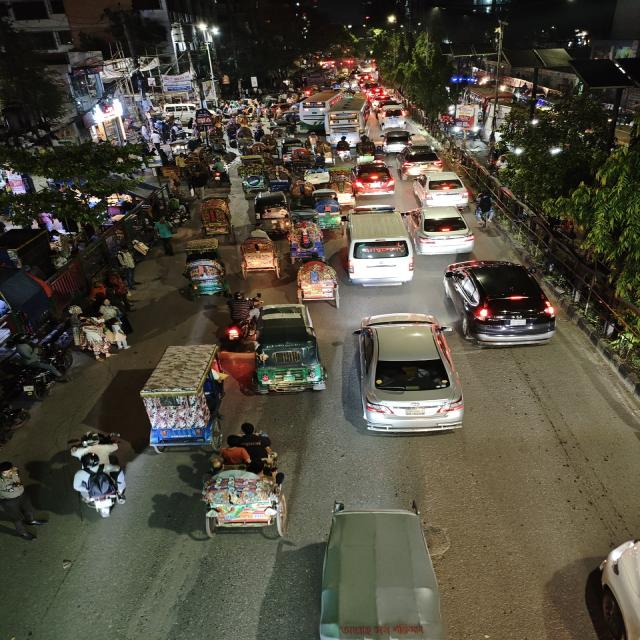bicycle: (472, 193, 495, 227)
bus: (327, 104, 371, 132), (303, 91, 344, 113)
car: (348, 311, 468, 441), (439, 257, 562, 353), (340, 208, 415, 288), (409, 205, 476, 255), (410, 170, 473, 207), (349, 162, 398, 196), (397, 146, 446, 174), (378, 130, 416, 152), (376, 107, 408, 130)
cng: (309, 502, 451, 640), (249, 301, 327, 397)
human_hauler: (310, 502, 452, 640)
motorcycle: (68, 446, 131, 520), (222, 290, 260, 344), (13, 360, 64, 400), (332, 135, 353, 163)
pedestrian: (99, 302, 130, 350), (100, 267, 133, 309), (152, 217, 178, 255), (114, 247, 140, 283), (186, 167, 210, 197)
rickshaw: (133, 341, 231, 451), (195, 432, 288, 540), (178, 249, 232, 301), (294, 259, 342, 307), (237, 232, 280, 278), (284, 214, 324, 262), (194, 194, 234, 238), (250, 192, 291, 229), (235, 154, 271, 192), (311, 191, 345, 229), (279, 140, 315, 166), (327, 167, 358, 195), (265, 166, 293, 194), (356, 136, 378, 162)
truck: (327, 108, 367, 130)
